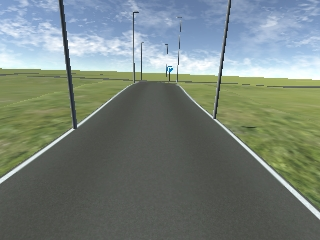right: (166, 66, 174, 73)
